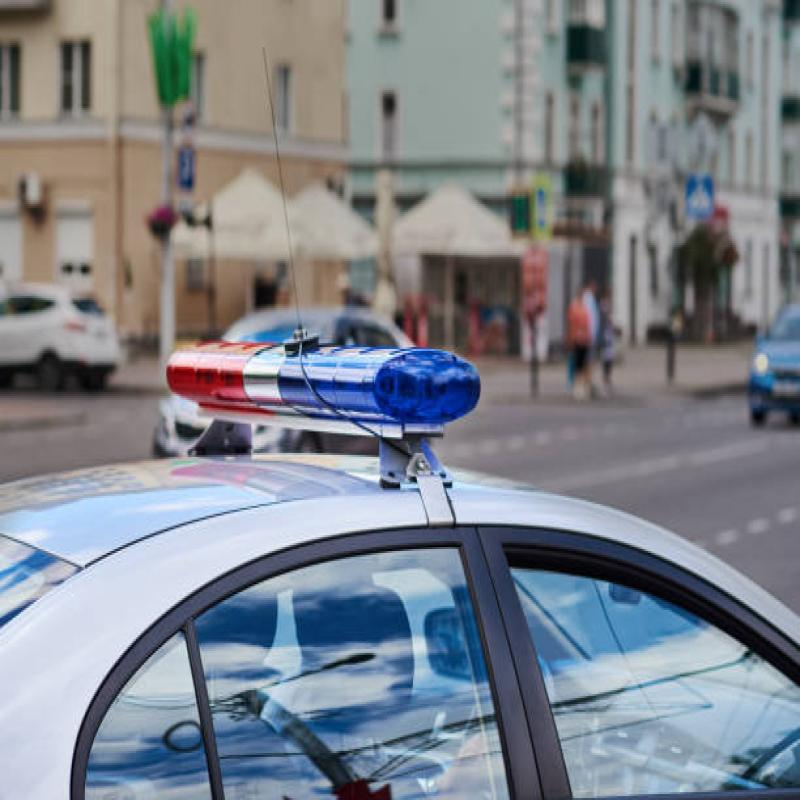AmbulanceSiren: (144, 307, 499, 490)
